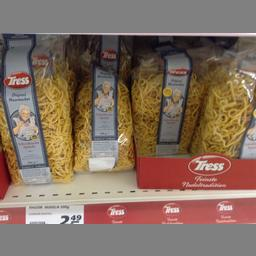pasta: (0, 37, 72, 184), (130, 60, 204, 156), (72, 68, 134, 170), (188, 74, 254, 156)
